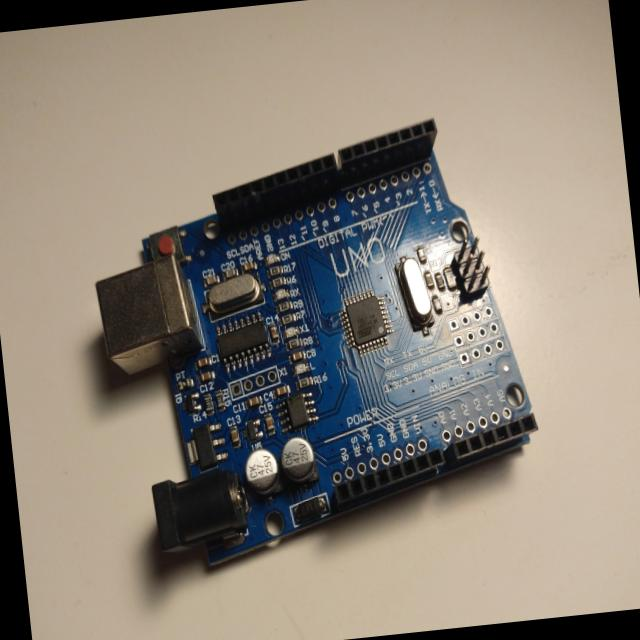arduino: (82, 102, 582, 567)
